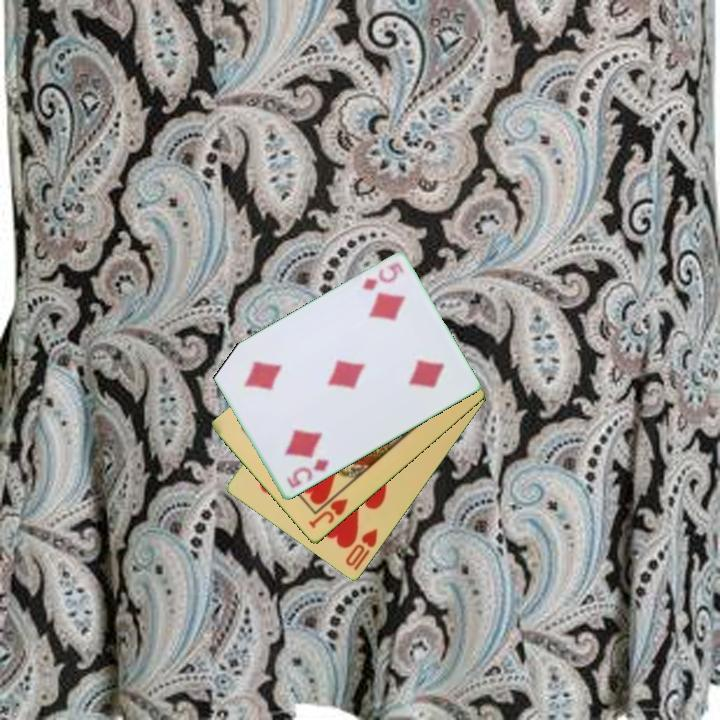10h: (342, 525, 381, 574)
5d: (282, 455, 332, 491), (358, 259, 406, 294)
Jh: (305, 486, 352, 532)
